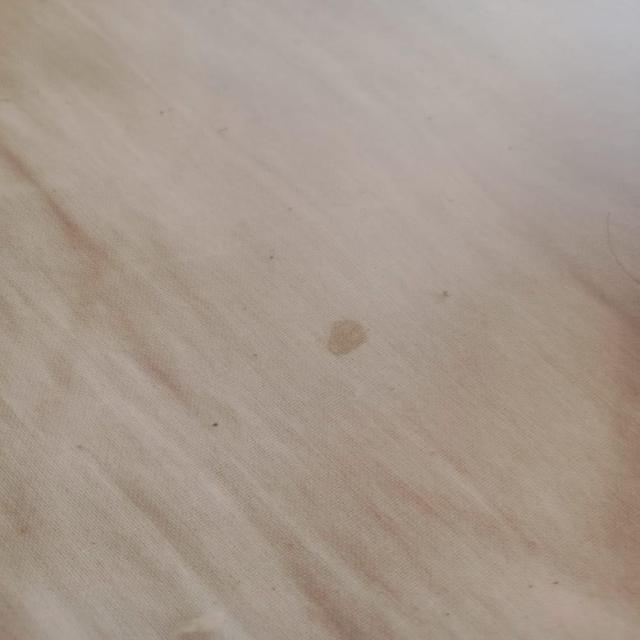stain: (318, 316, 376, 356), (194, 407, 239, 436), (426, 286, 463, 304)
